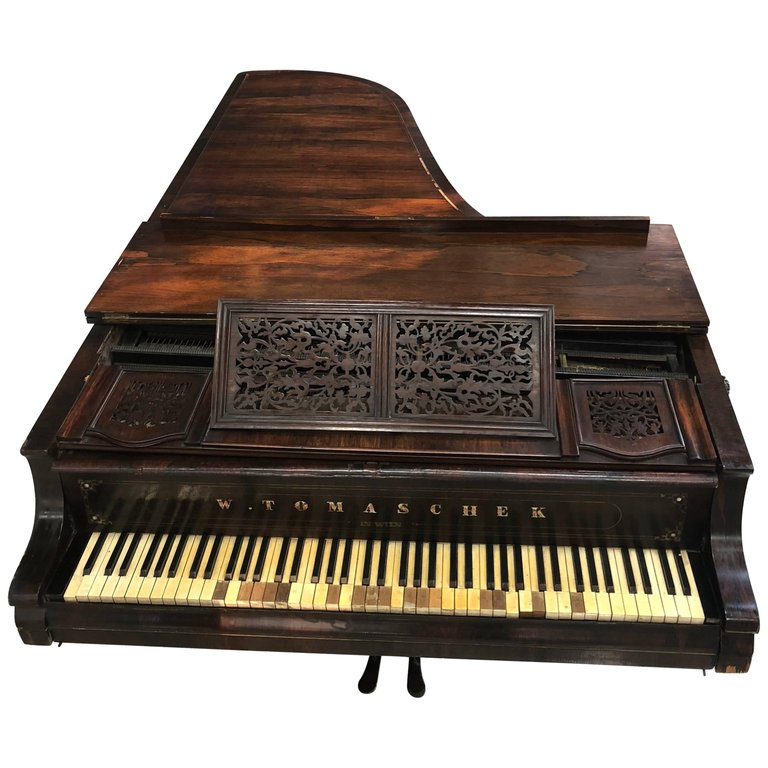GrandPiano: (12, 165, 725, 641)
